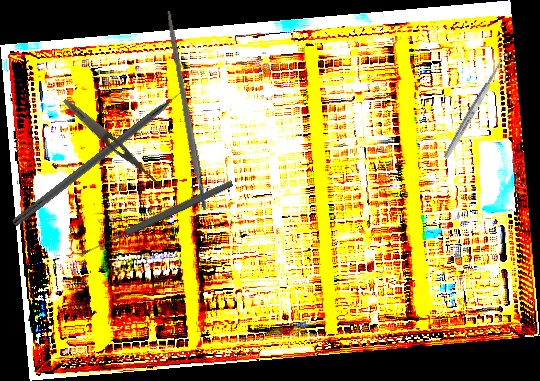Dressing Forceps: (60, 95, 169, 193)
Hook Surgical: (11, 79, 199, 230)
Scalpel Handle: (164, 10, 208, 211)
Surgical Spoon: (79, 178, 235, 258), (442, 51, 510, 160)
